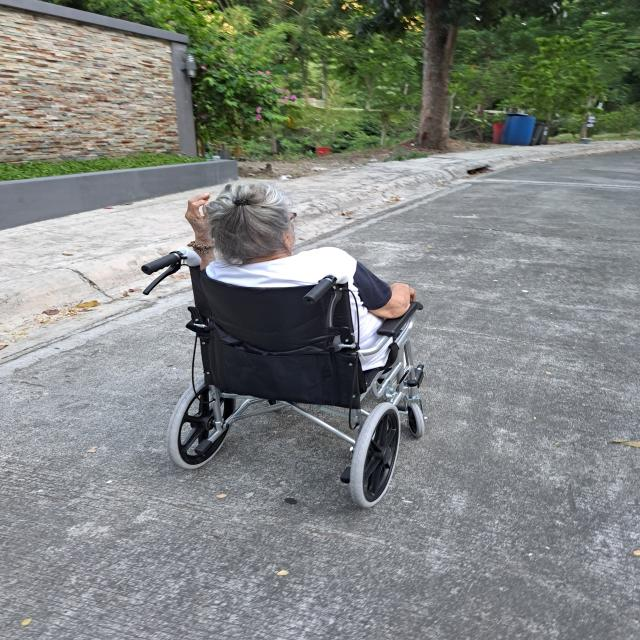wheelchairs: (132, 247, 430, 515)
